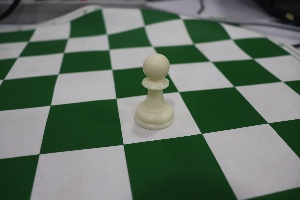white_pawn: (124, 39, 182, 138)
